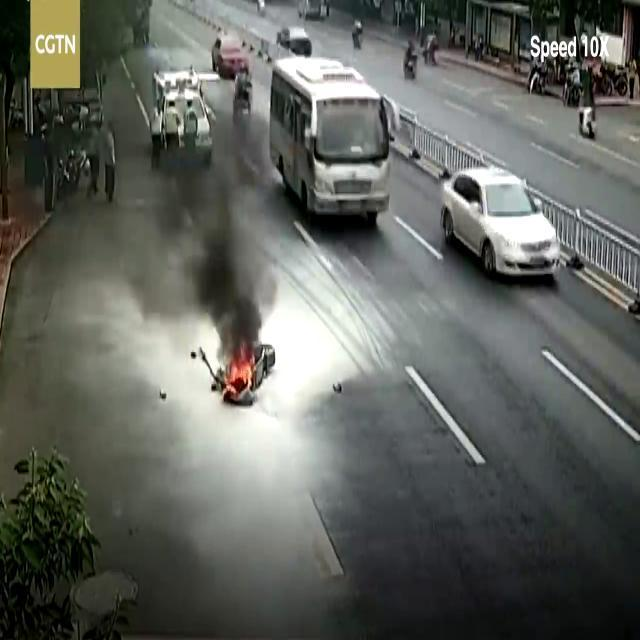Fire: (225, 356, 255, 398)
Smoke: (112, 101, 291, 339)
